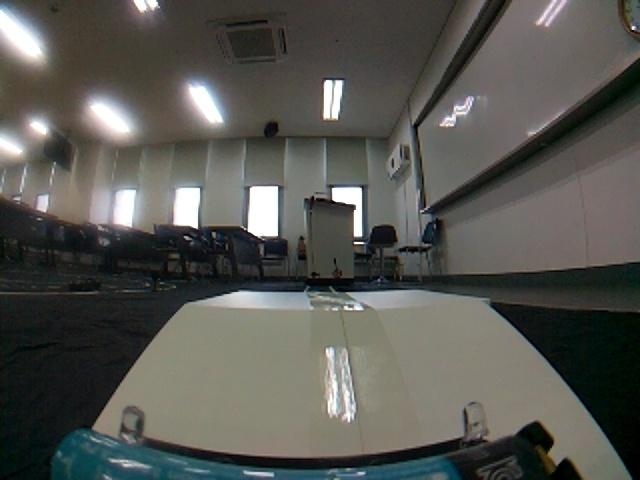hill_up: (51, 289, 626, 480)
